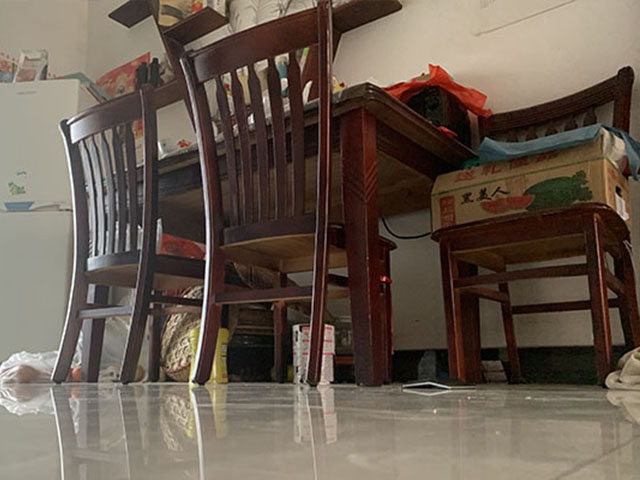stool: (178, 4, 398, 389), (428, 64, 640, 388), (50, 83, 221, 386)
table: (73, 79, 487, 388)
